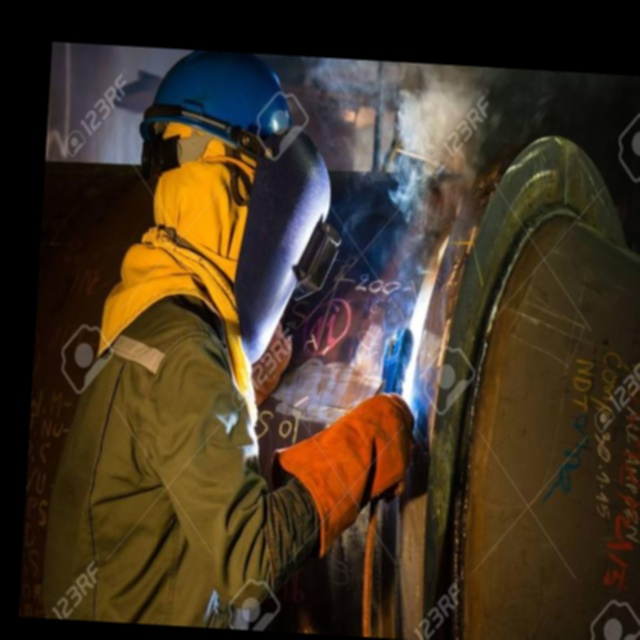Con_Casco: (140, 48, 295, 191)
